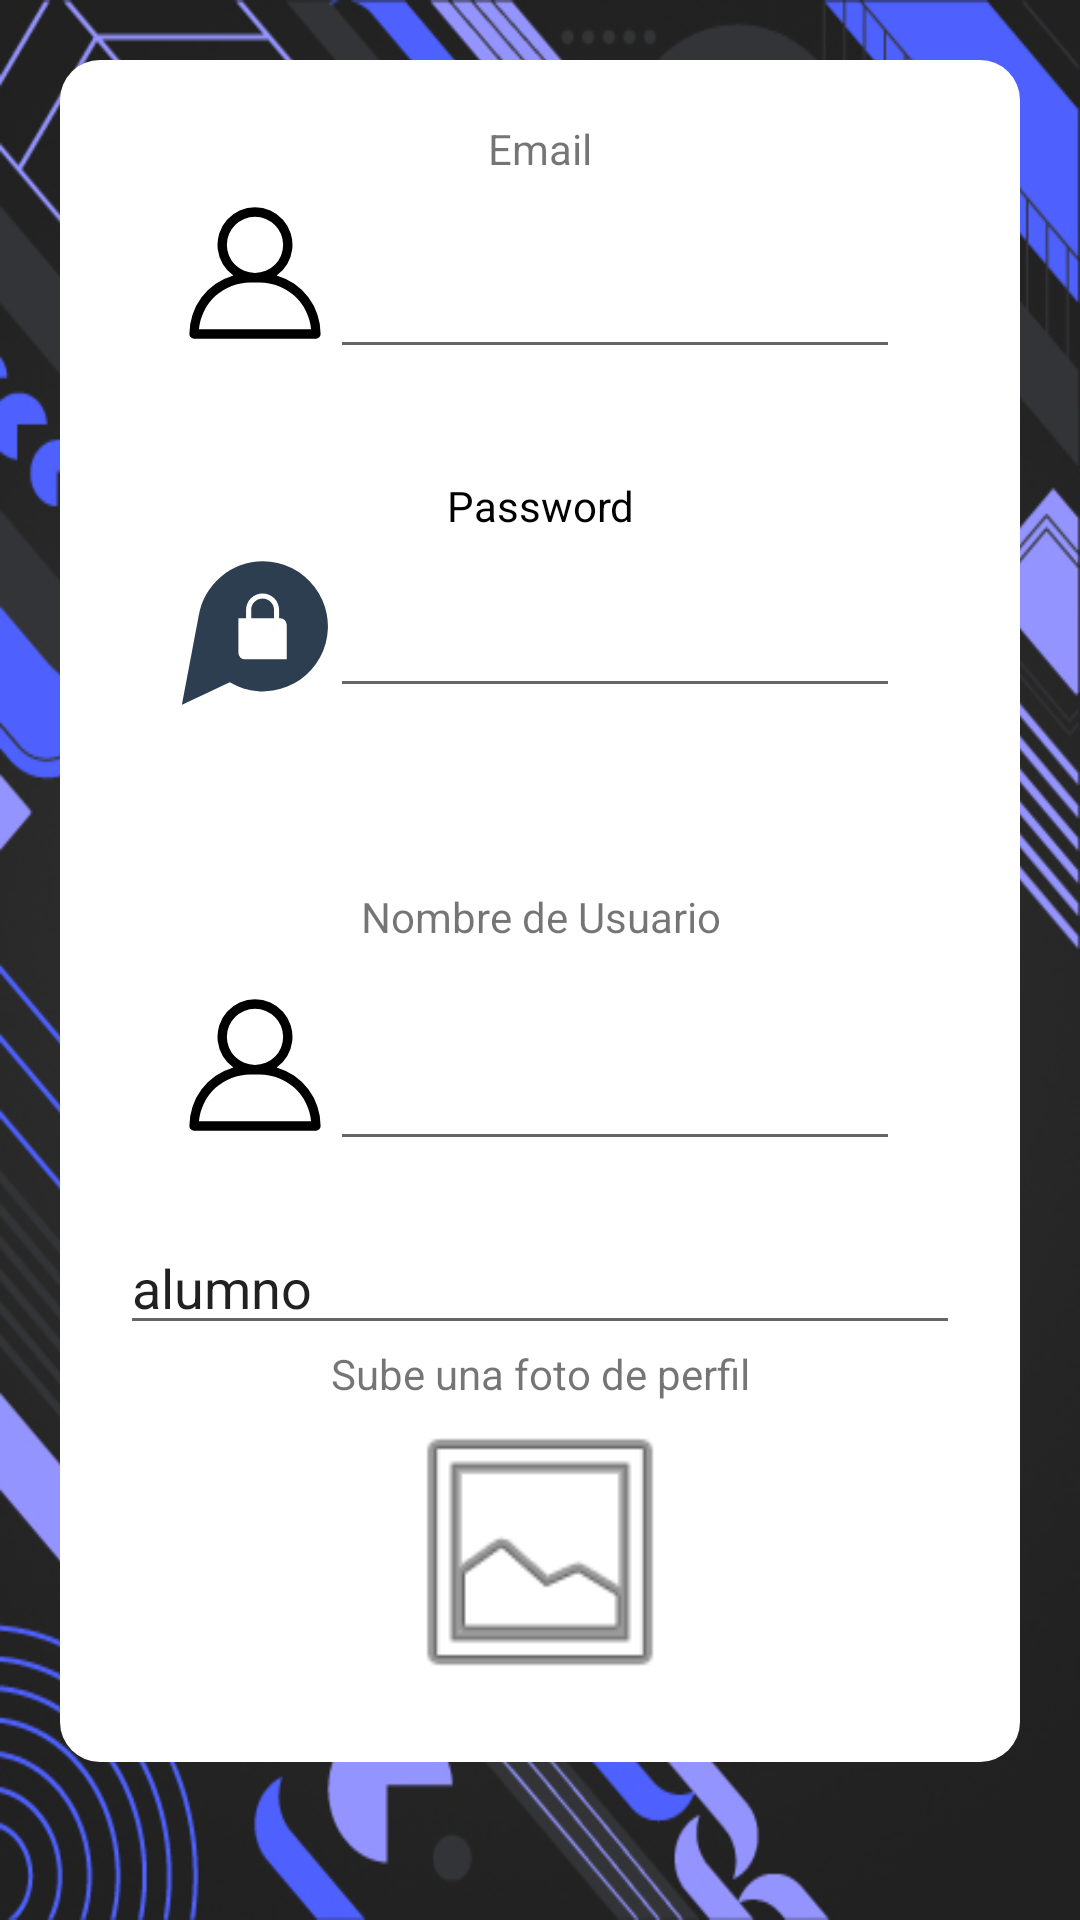

Screen size 1080px x 1920px. Icon name, then its center in pixels as (x,y):
gallery: (540,1552)
user: (255,273), (255,1065)
